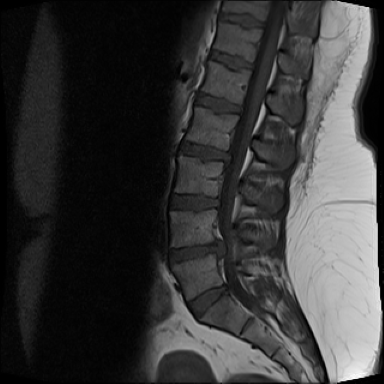Lumbar Disc Bulge (LDB): (158, 221, 243, 271), (173, 136, 233, 167)
Normal IVD: (178, 280, 230, 325), (190, 85, 246, 121), (206, 44, 256, 75), (214, 6, 266, 33), (161, 189, 222, 212)
Spinal Stenosis (SS): (201, 229, 239, 270)
